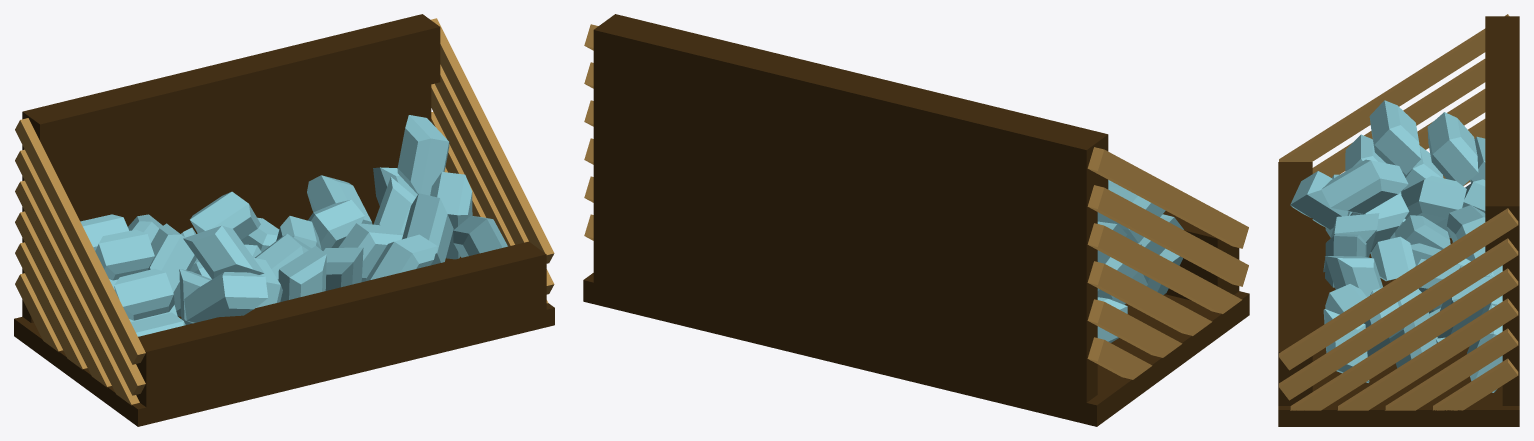
Rendered from SM_CrystalStockpile.fbx.
3 views of the same model, side by side, from view 1: azimuth 30°, elevation 25°; view 2: azimuth 150°, elevation 25°; view 3: azimuth 270°, elevation 25° (orthographic). The views are drawn at different scales.
Parts seen in each view (by area): view 1: Cube.019; view 2: Cube.019; view 3: Cube.019.
Boxes of the visible parts, left/top/right/bottom form: Cube.019: left=14, top=14, right=554, bottom=426; Cube.019: left=583, top=14, right=1249, bottom=426; Cube.019: left=1278, top=14, right=1519, bottom=426.
Bounding box in the file's own units: 394 × 201 × 203.
